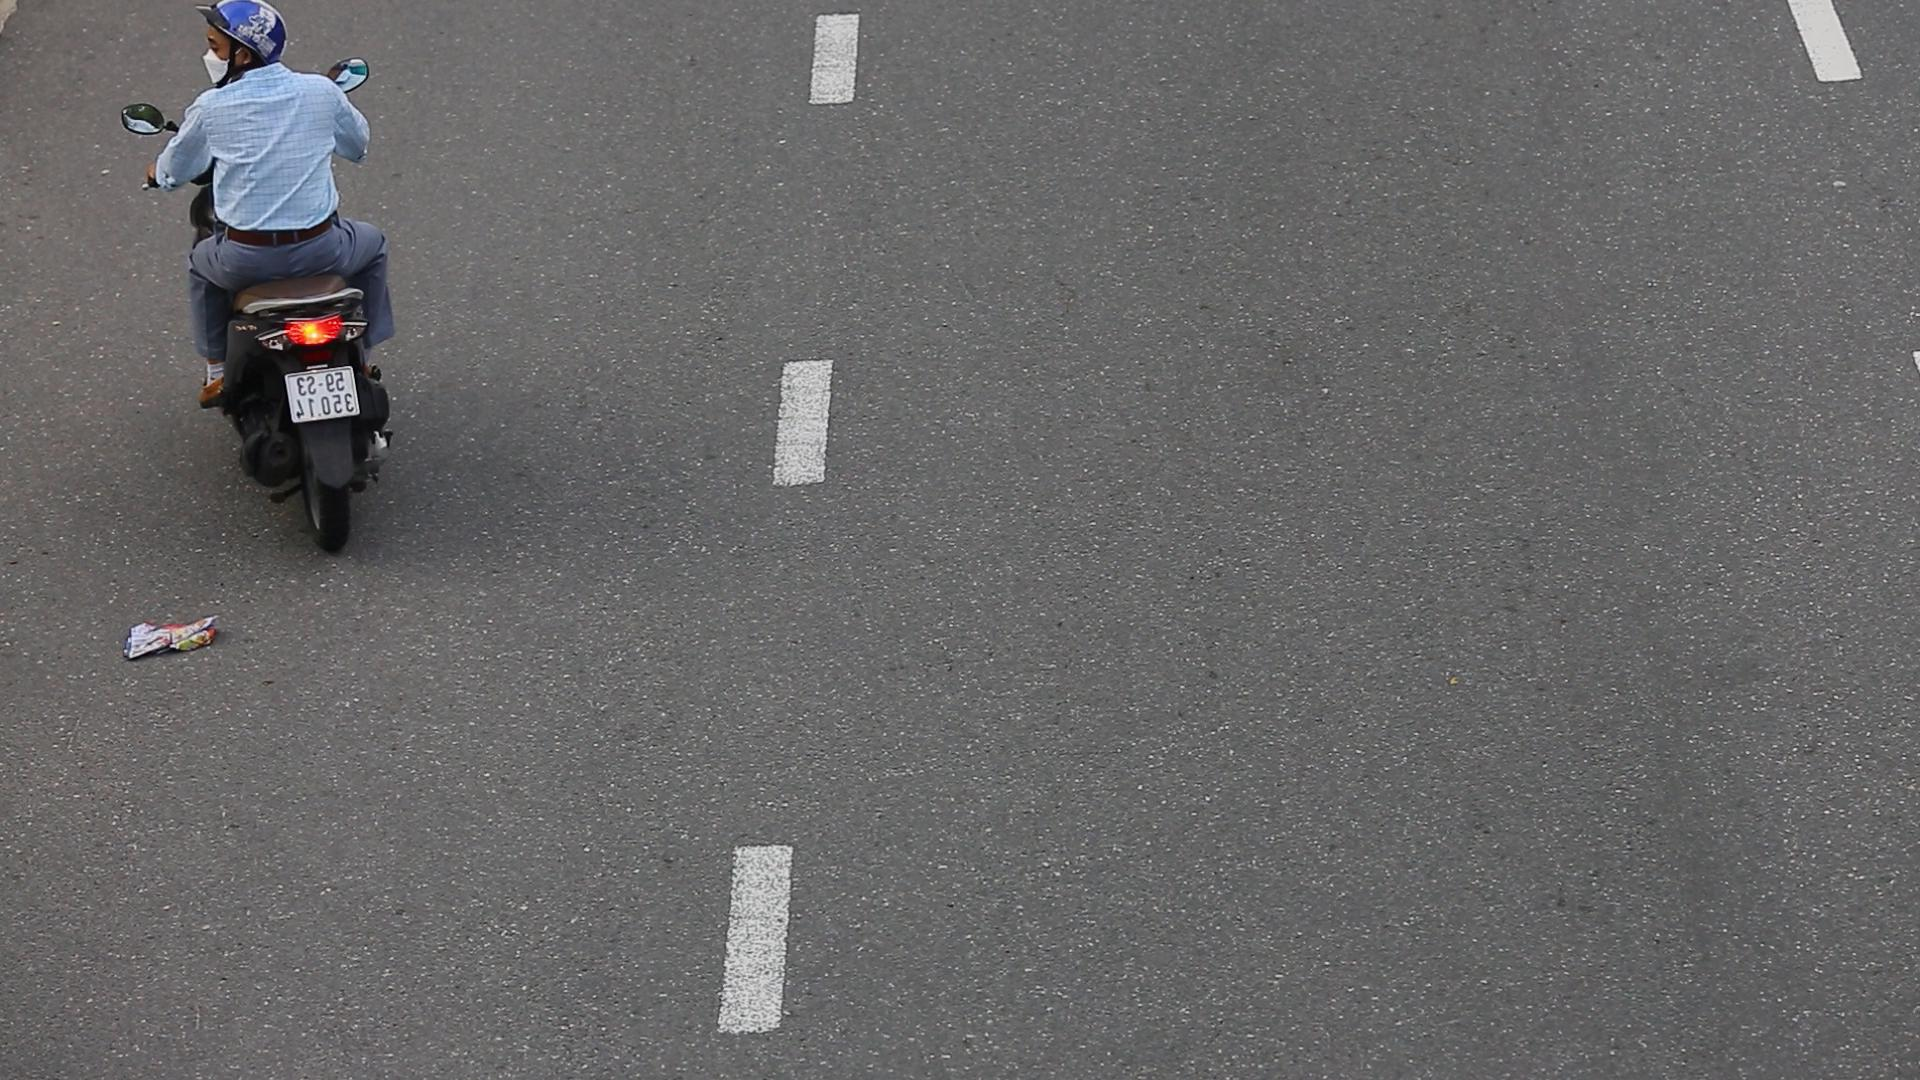motobike: (102, 0, 406, 558)
